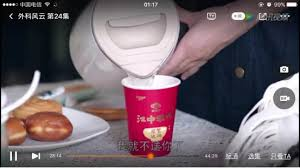cup: (121, 75, 182, 157)
